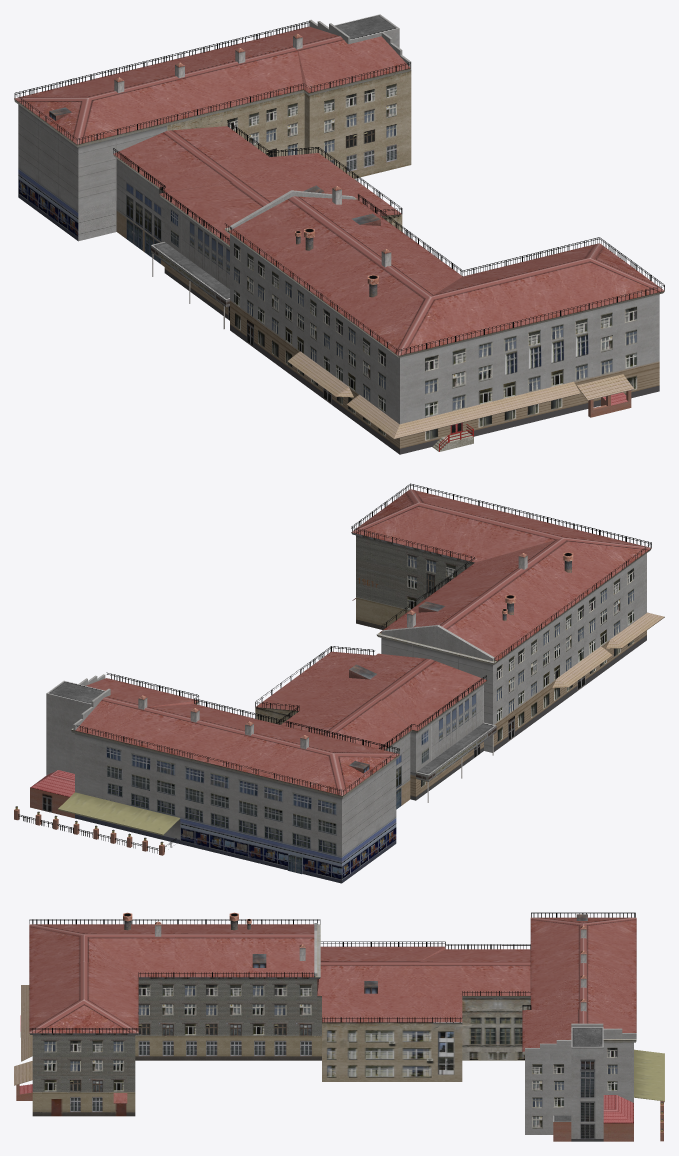
File: house_36_municipal.FBX
3 renders of one model, top to bottom at view 1: azimuth 30°, elevation 25°; view 2: azimuth 150°, elevation 25°; view 3: azimuth 270°, elevation 25°, orthographic. The views are drawn at different scales.
Parts seen in each view (by area): view 1: house_36_municipal; view 2: house_36_municipal; view 3: house_36_municipal.
Boxes of the visible parts, left/top/right/bottom form: house_36_municipal: left=14, top=14, right=664, bottom=454; house_36_municipal: left=14, top=483, right=664, bottom=883; house_36_municipal: left=14, top=912, right=664, bottom=1141.
Size of the model in its own units: 54.47 by 20.43 by 106.
